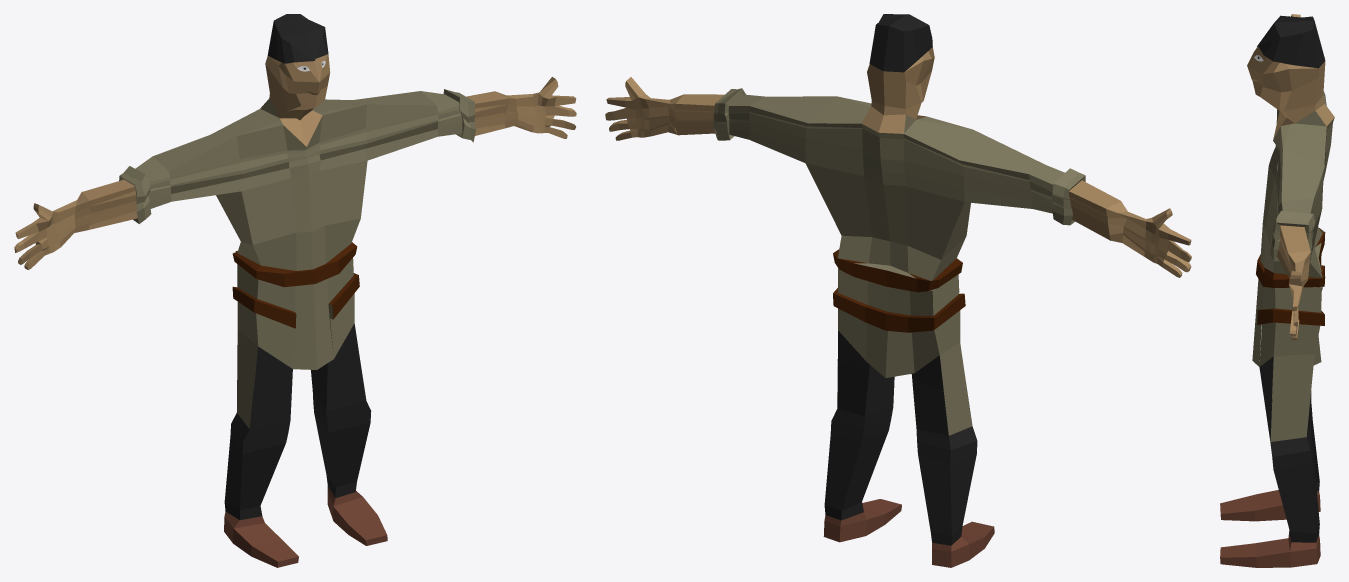
The model's file is Player 1.fbx.
3 renders of one model, left to right at view 1: azimuth 30°, elevation 25°; view 2: azimuth 150°, elevation 25°; view 3: azimuth 270°, elevation 25°, orthographic. The views are drawn at different scales.
Visible parts, largest first — view 1: Cube.001; view 2: Cube.001; view 3: Cube.001.
Boxes of the visible parts, box(x1,y1,x2,y2) form: Cube.001: box(14, 14, 576, 567); Cube.001: box(605, 14, 1191, 567); Cube.001: box(1220, 14, 1334, 567).
Bounding box in the file's own units: 1354 × 1172 × 236.
